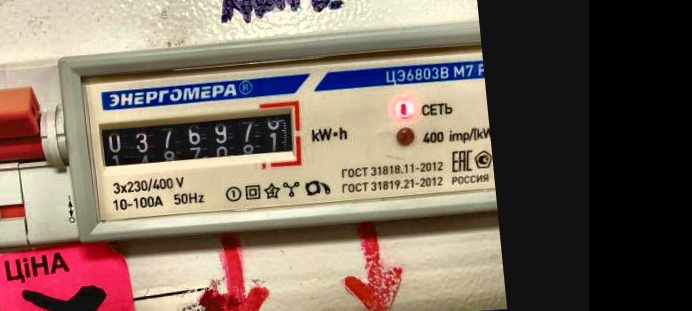0: (105, 130, 122, 154)
1: (267, 130, 278, 153)
3: (133, 131, 148, 153)
6: (184, 121, 202, 146)
7: (238, 117, 254, 142), (159, 125, 175, 149)
9: (211, 121, 227, 144)
screen: (87, 96, 307, 188)
